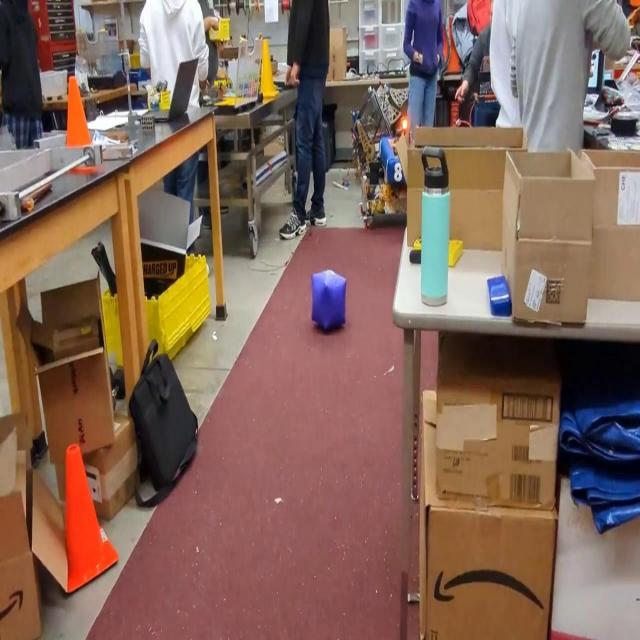frc_cone: (256, 39, 280, 99)
frc_cube: (310, 270, 346, 334)
